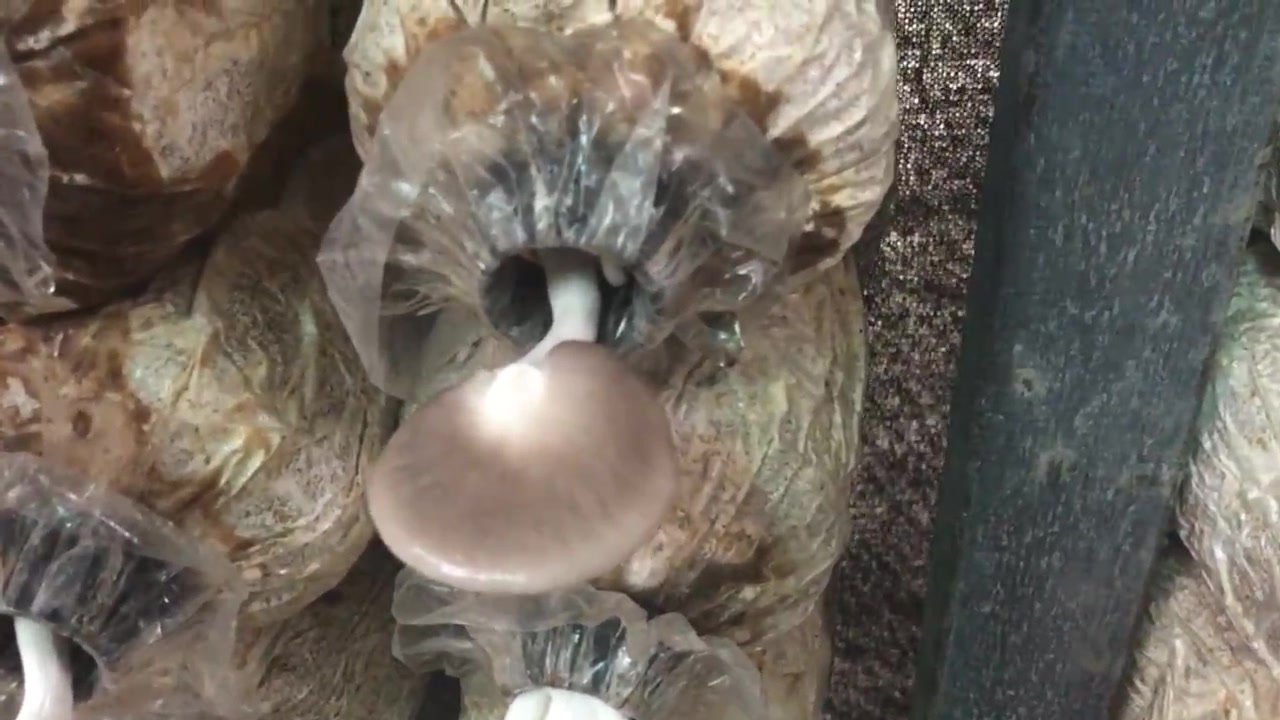nam: (364, 198, 681, 593)
